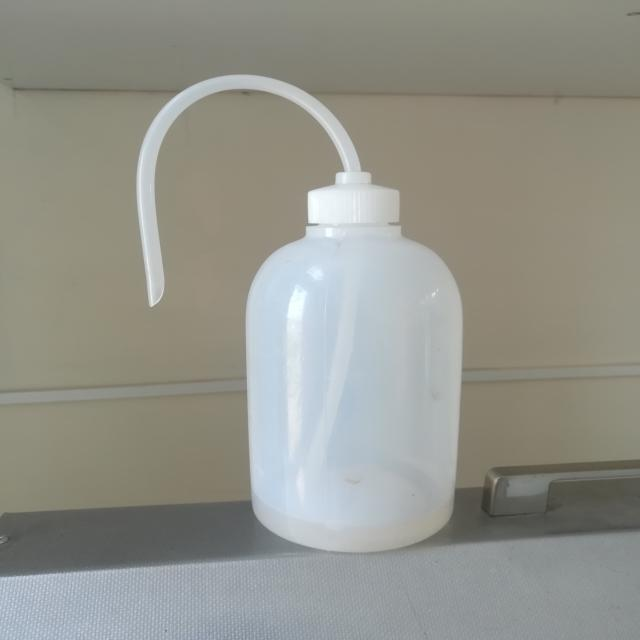Wash_Bottle: (84, 46, 511, 576)
